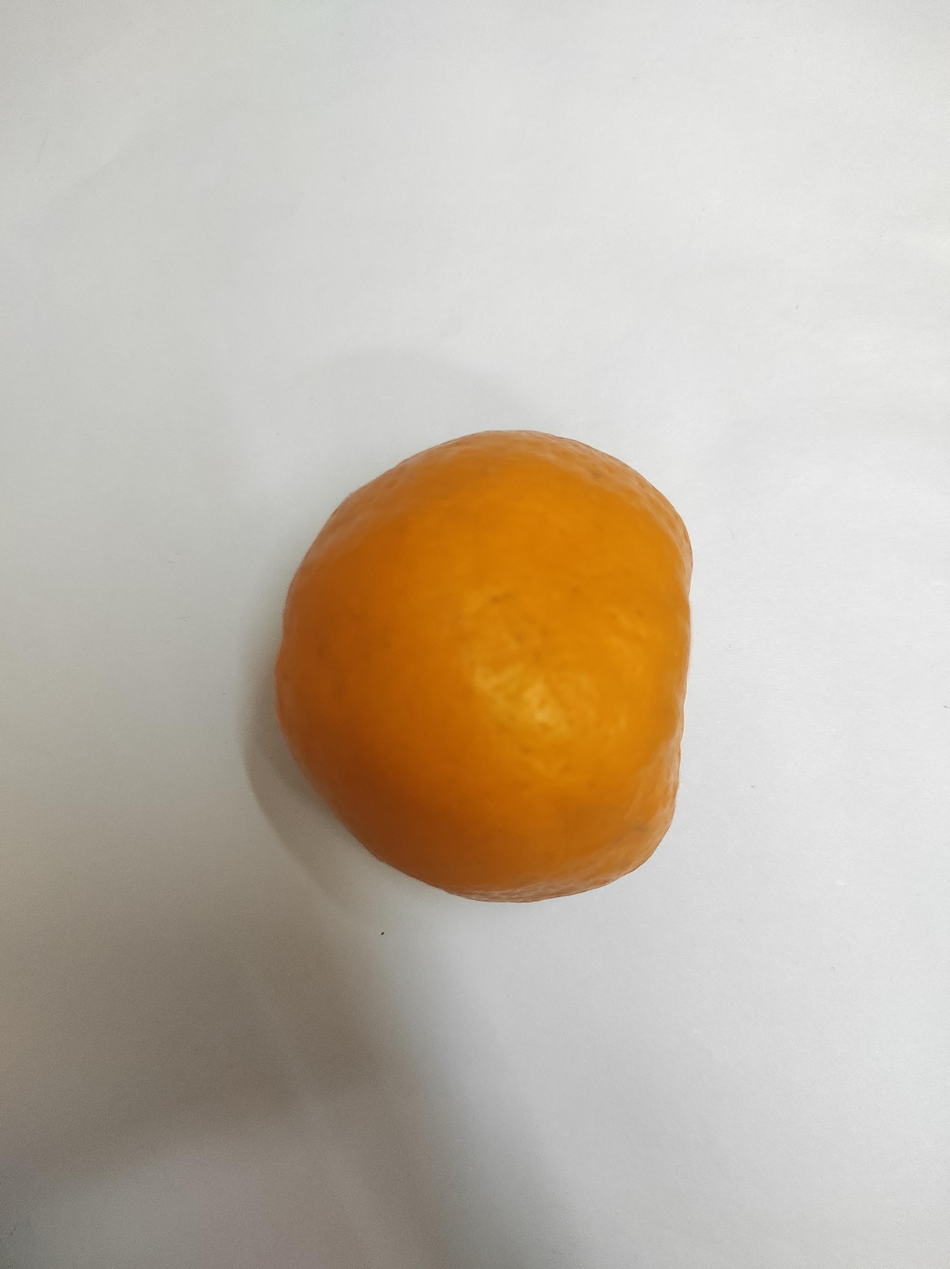Orange Ripe: (205, 567, 524, 1196)
